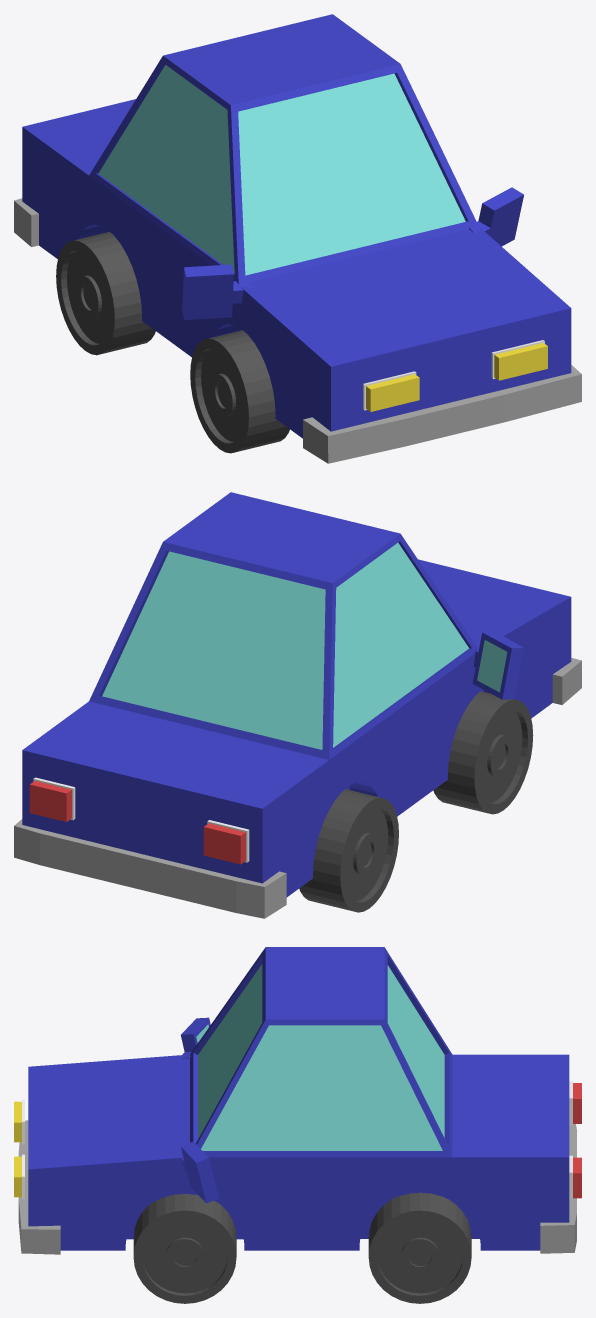
File: 250513 Blue Car_01.fbx
3 views of the same model, one above another, from view 1: azimuth 30°, elevation 25°; view 2: azimuth 150°, elevation 25°; view 3: azimuth 270°, elevation 25° (orthographic). The views are drawn at different scales.
Visible parts, largest first — view 1: Cube.007; view 2: Cube.007; view 3: Cube.007.
Boxes of the visible parts, left/top/right/bottom form: Cube.007: left=14, top=14, right=581, bottom=463; Cube.007: left=14, top=492, right=581, bottom=918; Cube.007: left=14, top=947, right=581, bottom=1303.
Size of the model in its own units: 664 by 557 by 1103.
